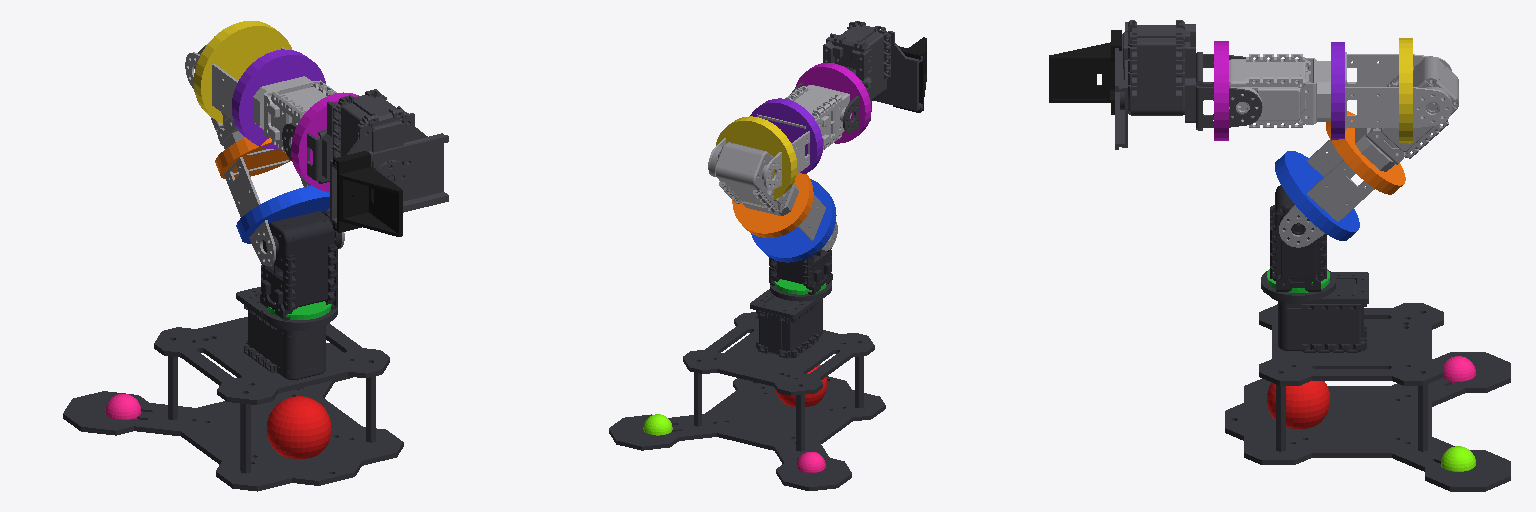
The robot description file, URDF, robot "phantomx_pincher_cad":
<?xml version="1.0" ?>
<!-- 由 scripts/build_cad_urdf.py 从 PhantomX Pincher Mark II STEP/GLB 生成。
     运动学来自 CAD 装配：link frame = 零件局部坐标系，joint origin = 父→子相对变换。
     base_link 包含底座；base_footprint 把 CAD 的 Y-up 转成 Z-up。
-->
<robot name="phantomx_pincher_cad">
  <link name="base_footprint"/>
  <joint name="arm_base_joint" type="fixed">
    <origin xyz="0 0 0" rpy="0 -0 -1.57079633"/>
    <parent link="base_footprint"/>
    <child link="base_link"/>
  </joint>

  <link name="base_link">
    <inertial>
      <mass value="0.3"/>
      <origin xyz="0 0 0"/>
      <inertia ixx="0.0001" ixy="0" ixz="0" iyy="0.0001" iyz="0" izz="0.0001"/>
    </inertial>
    <visual>
      <origin xyz="0 0 0" rpy="0 0 0"/>
      <geometry><mesh filename="parts/PincherBase.stl" scale="1.0 1.0 1.0"/></geometry>
      <material name="grey"><color rgba="0.25 0.25 0.28 1"/></material>
    </visual>
    <collision>
      <origin xyz="0 0 0" rpy="0 0 0"/>
      <geometry><mesh filename="parts/PincherBase.stl" scale="1.0 1.0 1.0"/></geometry>
    </collision>
    <visual>
      <origin xyz="0 0 0" rpy="0 0 0"/>
      <geometry><mesh filename="parts/PincherBase_1.stl" scale="1.0 1.0 1.0"/></geometry>
      <material name="grey"><color rgba="0.25 0.25 0.28 1"/></material>
    </visual>
    <collision>
      <origin xyz="0 0 0" rpy="0 0 0"/>
      <geometry><mesh filename="parts/PincherBase_1.stl" scale="1.0 1.0 1.0"/></geometry>
    </collision>
  </link>

  <joint name="arm_shoulder_pan_joint" type="revolute">
    <origin xyz="0.00007574 0.00007574 0.09437501" rpy="0 0 0"/>
    <axis xyz="0 0 1"/>
    <limit effort="6" lower="-1.74" upper="1.74" velocity="1.571"/>
    <dynamics friction="0.13"/>
    <parent link="base_link"/>
    <child link="arm_shoulder_pan_link"/>
  </joint>
  <link name="arm_shoulder_pan_link">
    <inertial>
      <mass value="0.08"/>
      <origin xyz="0 0 0"/>
      <inertia ixx="0.0001" ixy="0" ixz="0" iyy="0.0001" iyz="0" izz="0.0001"/>
    </inertial>
    <visual>
      <origin xyz="0 0 0" rpy="0 0 0"/>
      <geometry><mesh filename="parts/Component1.stl" scale="1.0 1.0 1.0"/></geometry>
      <material name="grey"><color rgba="0.22 0.22 0.25 1"/></material>
    </visual>
    <collision>
      <origin xyz="0 0 0" rpy="0 0 0"/>
      <geometry><mesh filename="parts/Component1.stl" scale="1.0 1.0 1.0"/></geometry>
    </collision>
  </link>

  <joint name="arm_bicep_joint" type="revolute">
    <origin xyz="-0.00000023 0 0.04149977" rpy="0 -0.78539816 0"/>
    <axis xyz="0 1 -0"/>
    <limit effort="6" lower="-1.98" upper="1.88" velocity="1.571"/>
    <dynamics friction="0.13"/>
    <parent link="arm_shoulder_pan_link"/>
    <child link="arm_bicep_link"/>
  </joint>
  <link name="arm_bicep_link">
    <inertial>
      <mass value="0.1"/>
      <origin xyz="0 0 0"/>
      <inertia ixx="0.0001" ixy="0" ixz="0" iyy="0.0001" iyz="0" izz="0.0001"/>
    </inertial>
    <visual>
      <origin xyz="0 0 0" rpy="0 0 0"/>
      <geometry><mesh filename="parts/LowerArm_v2.stl" scale="1.0 1.0 1.0"/></geometry>
      <material name="grey"><color rgba="0.6 0.6 0.62 1"/></material>
    </visual>
    <collision>
      <origin xyz="0 0 0" rpy="0 0 0"/>
      <geometry><mesh filename="parts/LowerArm_v2.stl" scale="1.0 1.0 1.0"/></geometry>
    </collision>
  </link>

  <joint name="arm_forearm_joint" type="revolute">
    <origin xyz="0.00000023 0 0.10700023" rpy="-3.14159265 0.78539816 -3.14159265"/>
    <axis xyz="-0 1 0"/>
    <limit effort="6" lower="-1.58" upper="0.59" velocity="1.571"/>
    <dynamics friction="0.13"/>
    <parent link="arm_bicep_link"/>
    <child link="arm_forearm_link"/>
  </joint>
  <link name="arm_forearm_link">
    <inertial>
      <mass value="0.08"/>
      <origin xyz="0 0 0"/>
      <inertia ixx="0.0001" ixy="0" ixz="0" iyy="0.0001" iyz="0" izz="0.0001"/>
    </inertial>
    <visual>
      <origin xyz="0 0 0" rpy="0 0 0"/>
      <geometry><mesh filename="parts/UpperArm_v2.stl" scale="1.0 1.0 1.0"/></geometry>
      <material name="grey"><color rgba="0.68 0.68 0.7 1"/></material>
    </visual>
    <collision>
      <origin xyz="0 0 0" rpy="0 0 0"/>
      <geometry><mesh filename="parts/UpperArm_v2.stl" scale="1.0 1.0 1.0"/></geometry>
    </collision>
  </link>

  <joint name="arm_wrist_flex_joint" type="revolute">
    <origin xyz="-0.00025427 -0 0.107" rpy="-0 0 0"/>
    <axis xyz="-0 1 0"/>
    <limit effort="6" lower="-1.79" upper="1.67" velocity="1.571"/>
    <dynamics friction="0.13"/>
    <parent link="arm_forearm_link"/>
    <child link="arm_wrist_flex_link"/>
  </joint>
  <link name="arm_wrist_flex_link">
    <inertial>
      <mass value="0.06"/>
      <origin xyz="0 0 0"/>
      <inertia ixx="0.0001" ixy="0" ixz="0" iyy="0.0001" iyz="0" izz="0.0001"/>
    </inertial>
    <visual>
      <origin xyz="0 0 0" rpy="0 0 0"/>
      <geometry><mesh filename="parts/GripperBody_v4.stl" scale="1.0 1.0 1.0"/></geometry>
      <material name="grey"><color rgba="0.3 0.3 0.33 1"/></material>
    </visual>
    <collision>
      <origin xyz="0 0 0" rpy="0 0 0"/>
      <geometry><mesh filename="parts/GripperBody_v4.stl" scale="1.0 1.0 1.0"/></geometry>
    </collision>
  </link>

  <joint name="gripper_joint" type="prismatic">
    <origin xyz="0.00036977 0.02834429 0.07158491" rpy="-0 0 3.14159265"/>
    <axis xyz="0 -1 -0"/>
    <limit effort="30" lower="-0.0276" upper="0.032" velocity="0.5"/>
    <parent link="arm_wrist_flex_link"/>
    <child link="gripper_active_link"/>
  </joint>
  <link name="gripper_active_link">
    <inertial>
      <mass value="0.01"/>
      <origin xyz="0 0 0"/>
      <inertia ixx="0.0001" ixy="0" ixz="0" iyy="0.0001" iyz="0" izz="0.0001"/>
    </inertial>
    <visual>
      <origin xyz="0 0 0" rpy="0 0 0"/>
      <geometry><mesh filename="parts/LeftFinger_v2.stl" scale="1.0 1.0 1.0"/></geometry>
      <material name="grey"><color rgba="0.15 0.15 0.15 1"/></material>
    </visual>
    <collision>
      <origin xyz="0 0 0" rpy="0 0 0"/>
      <geometry><mesh filename="parts/LeftFinger_v2.stl" scale="1.0 1.0 1.0"/></geometry>
    </collision>
  </link>

  <joint name="gripper2_joint" type="fixed">
    <origin xyz="0.00036977 -0.02849576 0.07158491" rpy="0 -0 0"/>
    <parent link="arm_wrist_flex_link"/>
    <child link="gripper_active2_link"/>
  </joint>
  <link name="gripper_active2_link">
    <inertial>
      <mass value="0.01"/>
      <origin xyz="0 0 0"/>
      <inertia ixx="0.0001" ixy="0" ixz="0" iyy="0.0001" iyz="0" izz="0.0001"/>
    </inertial>
    <visual>
      <origin xyz="0 0 0" rpy="0 0 0"/>
      <geometry><mesh filename="parts/LeftFinger_v2_1.stl" scale="1.0 1.0 1.0"/></geometry>
      <material name="grey"><color rgba="0.15 0.15 0.15 1"/></material>
    </visual>
    <collision>
      <origin xyz="0 0 0" rpy="0 0 0"/>
      <geometry><mesh filename="parts/LeftFinger_v2_1.stl" scale="1.0 1.0 1.0"/></geometry>
    </collision>
  </link>

  <!-- keypoint marker: kp_base -->
  <link name="kp_base">
    <visual>
      <origin xyz="0 0 0" rpy="0.0 0.0 0.0"/>
      <geometry><sphere radius="0.018"/></geometry>
      <material name="kp_kp_base_color">
        <color rgba="0.90 0.15 0.15 1.00"/>
      </material>
    </visual>
  </link>
  <joint name="kp_base_joint" type="fixed">
    <origin xyz="0.0 0.0 0.02" rpy="0 0 0"/>
    <parent link="base_link"/>
    <child link="kp_base"/>
  </joint>


  <!-- keypoint marker: kp_shoulder_pan -->
  <link name="kp_shoulder_pan">
    <visual>
      <origin xyz="0 0 0" rpy="0.0 0.0 0.0"/>
      <geometry><cylinder radius="0.018" length="0.006"/></geometry>
      <material name="kp_kp_shoulder_pan_color">
        <color rgba="0.15 0.75 0.25 1.00"/>
      </material>
    </visual>
  </link>
  <joint name="kp_shoulder_pan_joint" type="fixed">
    <origin xyz="0.0 0.0 0.0" rpy="0 0 0"/>
    <parent link="arm_shoulder_pan_link"/>
    <child link="kp_shoulder_pan"/>
  </joint>


  <!-- keypoint marker: kp_shoulder_lift -->
  <link name="kp_shoulder_lift">
    <visual>
      <origin xyz="0 0 0" rpy="0.0 0.0 0.0"/>
      <geometry><cylinder radius="0.03" length="0.008"/></geometry>
      <material name="kp_kp_shoulder_lift_color">
        <color rgba="0.15 0.35 0.90 1.00"/>
      </material>
    </visual>
  </link>
  <joint name="kp_shoulder_lift_joint" type="fixed">
    <origin xyz="0.0 0.0 0.015" rpy="0 0 0"/>
    <parent link="arm_bicep_link"/>
    <child link="kp_shoulder_lift"/>
  </joint>


  <!-- keypoint marker: kp_upper_mid -->
  <link name="kp_upper_mid">
    <visual>
      <origin xyz="0 0 0" rpy="0.0 0.0 0.0"/>
      <geometry><cylinder radius="0.028" length="0.008"/></geometry>
      <material name="kp_kp_upper_mid_color">
        <color rgba="1.00 0.50 0.10 1.00"/>
      </material>
    </visual>
  </link>
  <joint name="kp_upper_mid_joint" type="fixed">
    <origin xyz="0.0 0.0 0.0535" rpy="0 0 0"/>
    <parent link="arm_bicep_link"/>
    <child link="kp_upper_mid"/>
  </joint>


  <!-- keypoint marker: kp_elbow -->
  <link name="kp_elbow">
    <visual>
      <origin xyz="0 0 0" rpy="0.0 0.0 0.0"/>
      <geometry><cylinder radius="0.03" length="0.008"/></geometry>
      <material name="kp_kp_elbow_color">
        <color rgba="0.90 0.80 0.15 1.00"/>
      </material>
    </visual>
  </link>
  <joint name="kp_elbow_joint" type="fixed">
    <origin xyz="0.0 0.0 0.015" rpy="0 0 0"/>
    <parent link="arm_forearm_link"/>
    <child link="kp_elbow"/>
  </joint>


  <!-- keypoint marker: kp_forearm_mid -->
  <link name="kp_forearm_mid">
    <visual>
      <origin xyz="0 0 0" rpy="0.0 0.0 0.0"/>
      <geometry><cylinder radius="0.028" length="0.008"/></geometry>
      <material name="kp_kp_forearm_mid_color">
        <color rgba="0.55 0.20 0.85 1.00"/>
      </material>
    </visual>
  </link>
  <joint name="kp_forearm_mid_joint" type="fixed">
    <origin xyz="0.0 0.0 0.0535" rpy="0 0 0"/>
    <parent link="arm_forearm_link"/>
    <child link="kp_forearm_mid"/>
  </joint>


  <!-- keypoint marker: kp_wrist -->
  <link name="kp_wrist">
    <visual>
      <origin xyz="0 0 0" rpy="0.0 0.0 0.0"/>
      <geometry><cylinder radius="0.028" length="0.008"/></geometry>
      <material name="kp_kp_wrist_color">
        <color rgba="0.80 0.15 0.80 1.00"/>
      </material>
    </visual>
  </link>
  <joint name="kp_wrist_joint" type="fixed">
    <origin xyz="0.0 0.0 0.012" rpy="0 0 0"/>
    <parent link="arm_wrist_flex_link"/>
    <child link="kp_wrist"/>
  </joint>


  <!-- keypoint marker: kp_base_left -->
  <link name="kp_base_left">
    <visual>
      <origin xyz="0 0 0" rpy="0.0 0.0 0.0"/>
      <geometry><sphere radius="0.01"/></geometry>
      <material name="kp_kp_base_left_color">
        <color rgba="0.55 1.00 0.10 1.00"/>
      </material>
    </visual>
  </link>
  <joint name="kp_base_left_joint" type="fixed">
    <origin xyz="-0.09 0.06 0.008" rpy="0 0 0"/>
    <parent link="base_link"/>
    <child link="kp_base_left"/>
  </joint>


  <!-- keypoint marker: kp_base_right -->
  <link name="kp_base_right">
    <visual>
      <origin xyz="0 0 0" rpy="0.0 0.0 0.0"/>
      <geometry><sphere radius="0.01"/></geometry>
      <material name="kp_kp_base_right_color">
        <color rgba="1.00 0.20 0.60 1.00"/>
      </material>
    </visual>
  </link>
  <joint name="kp_base_right_joint" type="fixed">
    <origin xyz="-0.09 -0.06 0.008" rpy="0 0 0"/>
    <parent link="base_link"/>
    <child link="kp_base_right"/>
  </joint>

</robot>

--- Facts derived from the render (not from the file) ---
The picture shows the robot from 3 angles, left to right: view 1: azimuth 30°, elevation 25°; view 2: azimuth 150°, elevation 25°; view 3: azimuth 270°, elevation 25°; orthographic projection.
Model phantomx_pincher_cad with 17 links and 16 joints (4 revolute, 1 prismatic, 11 fixed), rooted at base_footprint, posed all joints at 0.
Links seen in each view (by area): view 1: base_link, arm_wrist_flex_link, arm_shoulder_pan_link, gripper_active2_link, arm_forearm_link, kp_elbow, kp_forearm_mid, kp_base, arm_bicep_link, kp_shoulder_lift, kp_wrist, kp_upper_mid (+2 smaller); view 2: base_link, arm_wrist_flex_link, arm_bicep_link, arm_forearm_link, kp_elbow, kp_shoulder_lift, kp_upper_mid, kp_wrist, kp_forearm_mid, arm_shoulder_pan_link, gripper_active2_link; view 3: base_link, arm_forearm_link, arm_wrist_flex_link, arm_bicep_link, gripper_active2_link, arm_shoulder_pan_link, kp_shoulder_lift, kp_base, kp_upper_mid, kp_wrist, kp_elbow, kp_forearm_mid (+2 smaller).
Link boxes in pixels (<box>): base_link: <box>63,287,403,491</box>; arm_wrist_flex_link: <box>282,89,448,228</box>; arm_shoulder_pan_link: <box>260,211,341,320</box>; gripper_active2_link: <box>333,151,402,236</box>; arm_forearm_link: <box>185,47,336,152</box>; kp_elbow: <box>194,21,291,122</box>; kp_forearm_mid: <box>232,49,325,148</box>; kp_base: <box>267,396,331,458</box>; arm_bicep_link: <box>194,45,344,265</box>; kp_shoulder_lift: <box>236,185,329,243</box>; kp_wrist: <box>291,92,358,191</box>; kp_upper_mid: <box>215,138,290,178</box>; base_link: <box>609,281,885,490</box>; arm_wrist_flex_link: <box>790,21,922,132</box>; arm_bicep_link: <box>710,142,837,250</box>; arm_forearm_link: <box>708,85,851,190</box>; kp_elbow: <box>716,116,796,202</box>; kp_shoulder_lift: <box>751,179,836,262</box>; kp_upper_mid: <box>732,173,813,237</box>; kp_wrist: <box>795,63,871,143</box>; kp_forearm_mid: <box>750,98,822,173</box>; arm_shoulder_pan_link: <box>769,248,832,294</box>; gripper_active2_link: <box>893,37,926,112</box>; base_link: <box>1225,270,1510,491</box>; arm_forearm_link: <box>1229,52,1451,130</box>; arm_wrist_flex_link: <box>1115,20,1261,149</box>; arm_bicep_link: <box>1279,56,1458,247</box>; gripper_active2_link: <box>1049,30,1121,114</box>; arm_shoulder_pan_link: <box>1270,185,1326,291</box>; kp_shoulder_lift: <box>1275,151,1359,240</box>; kp_base: <box>1267,381,1330,428</box>; kp_upper_mid: <box>1326,111,1405,194</box>; kp_wrist: <box>1214,41,1228,140</box>; kp_elbow: <box>1399,38,1412,142</box>; kp_forearm_mid: <box>1331,42,1344,140</box>.
Bounding box of the posed robot: 0.1792 × 0.26 × 0.2523 m (x, y, z).
Meshes: 8 distinct files referenced, 7 mesh visuals loaded (7 binary STL); not drawn: 1 (reference not matched to a file when rendering).
